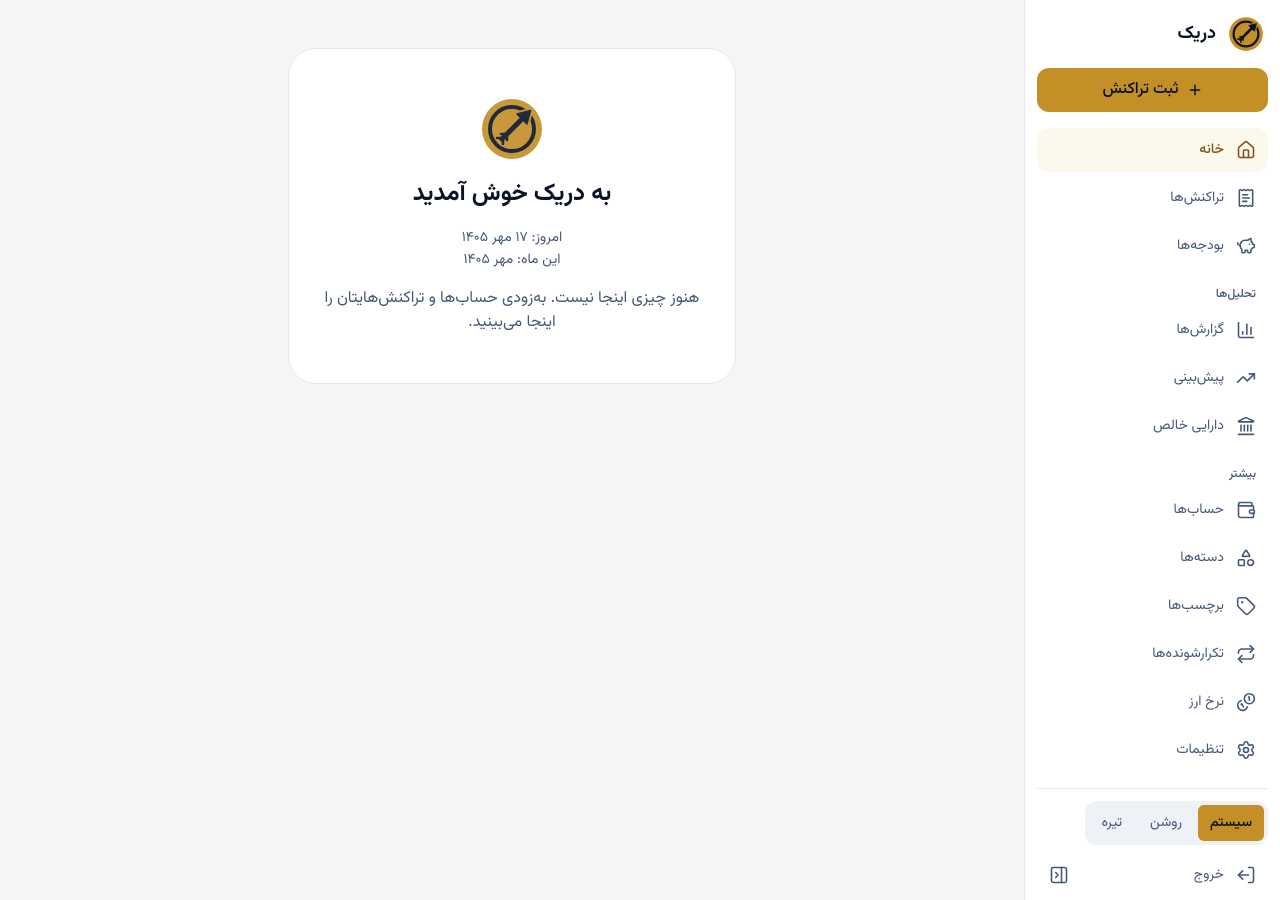
it: Projection › is reachable from the header
Click the link "پیش‌بینی" at (1215, 378), box [1174,367,1256,389]
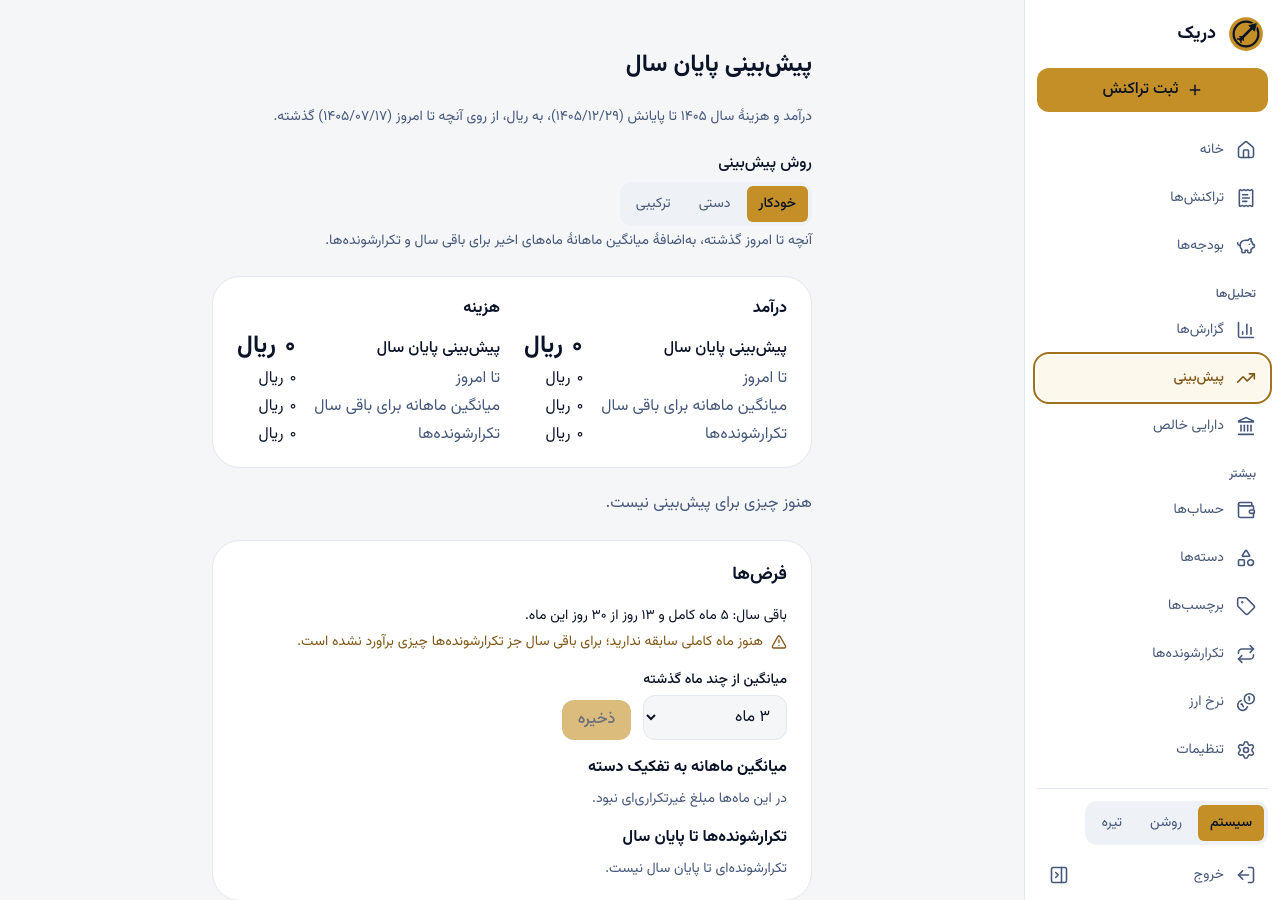
Expected: the heading "پیش‌بینی پایان سال" is shown, [626,46,812,84]
Expected: the text "هنوز چیزی برای پیش‌بینی نیست." is shown, [606,491,812,516]
Expected: the text "هنوز ماه کاملی سابقه ندارید؛ برای باقی سال جز تکرارشونده‌ها چیزی برآورد نشده است." is shown, [297,631,763,653]
